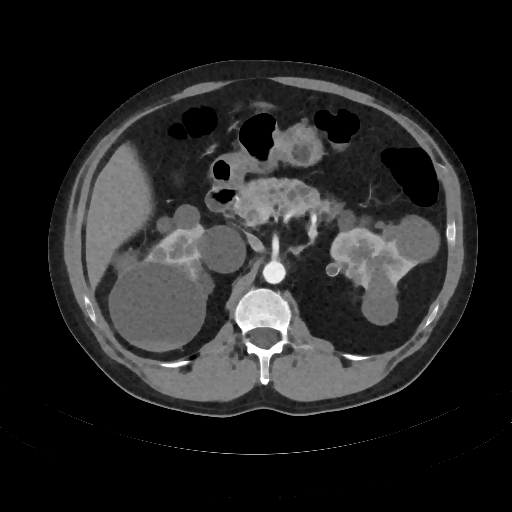Lesion: (106, 257, 208, 356)
